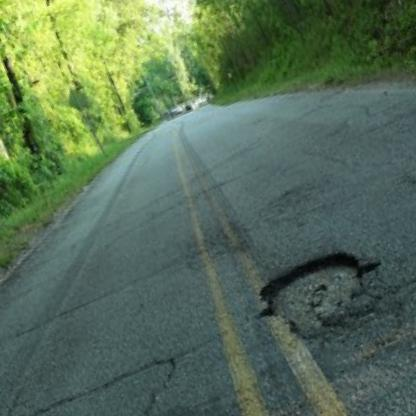pothole: (247, 234, 398, 353)
